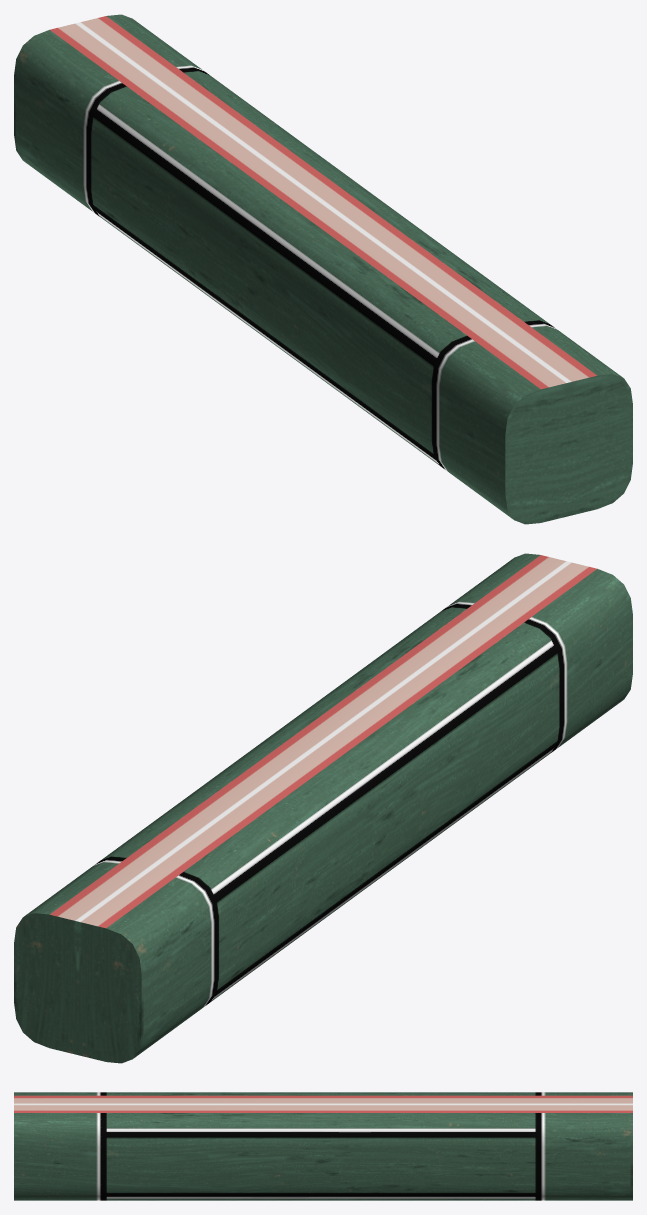
Rendered from SM_CGJ_Lintel01d.fbx.
3 renders of one model, top to bottom at view 1: azimuth 30°, elevation 25°; view 2: azimuth 150°, elevation 25°; view 3: azimuth 270°, elevation 25°, orthographic. The views are drawn at different scales.
Parts seen in each view (by area): view 1: SM_CGJ_Lintel01d; view 2: SM_CGJ_Lintel01d; view 3: SM_CGJ_Lintel01d.
Part boxes in pixels (<box>): SM_CGJ_Lintel01d: <box>14,14,632,524</box>; SM_CGJ_Lintel01d: <box>14,553,632,1063</box>; SM_CGJ_Lintel01d: <box>14,1092,632,1200</box>.
Bounding box in the file's own units: 22.5 × 150 × 22.5.
1 material, 1 textured.
